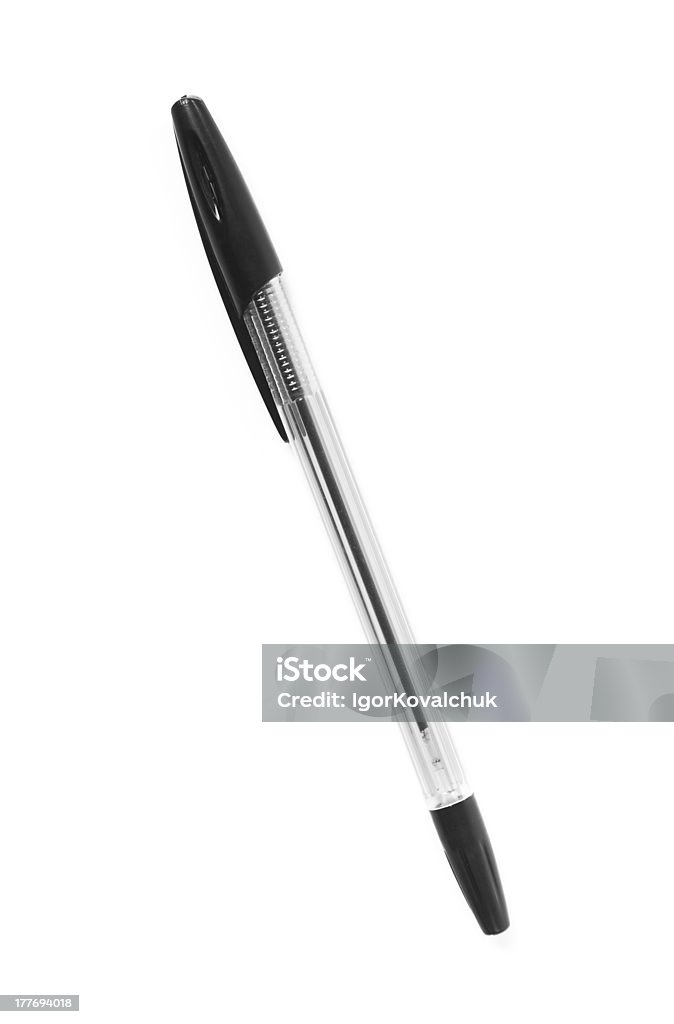pen: (104, 68, 542, 969)
